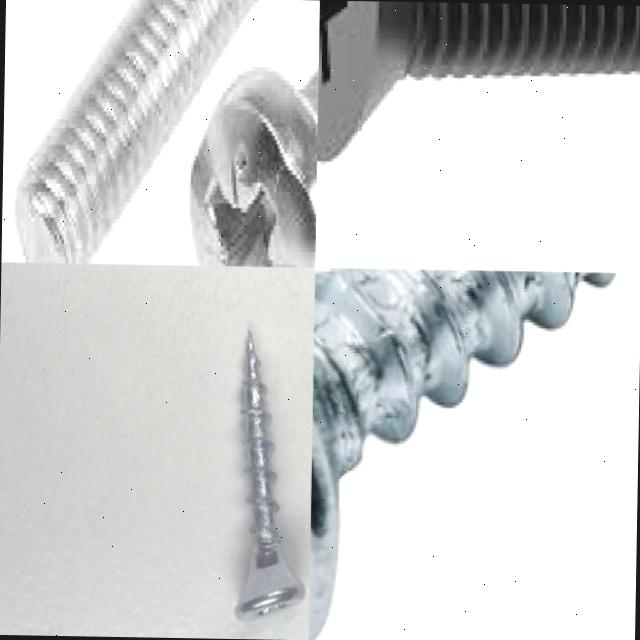Screw: (308, 268, 616, 640), (11, 0, 264, 263), (317, 0, 640, 163), (186, 66, 318, 267), (235, 329, 305, 620)
